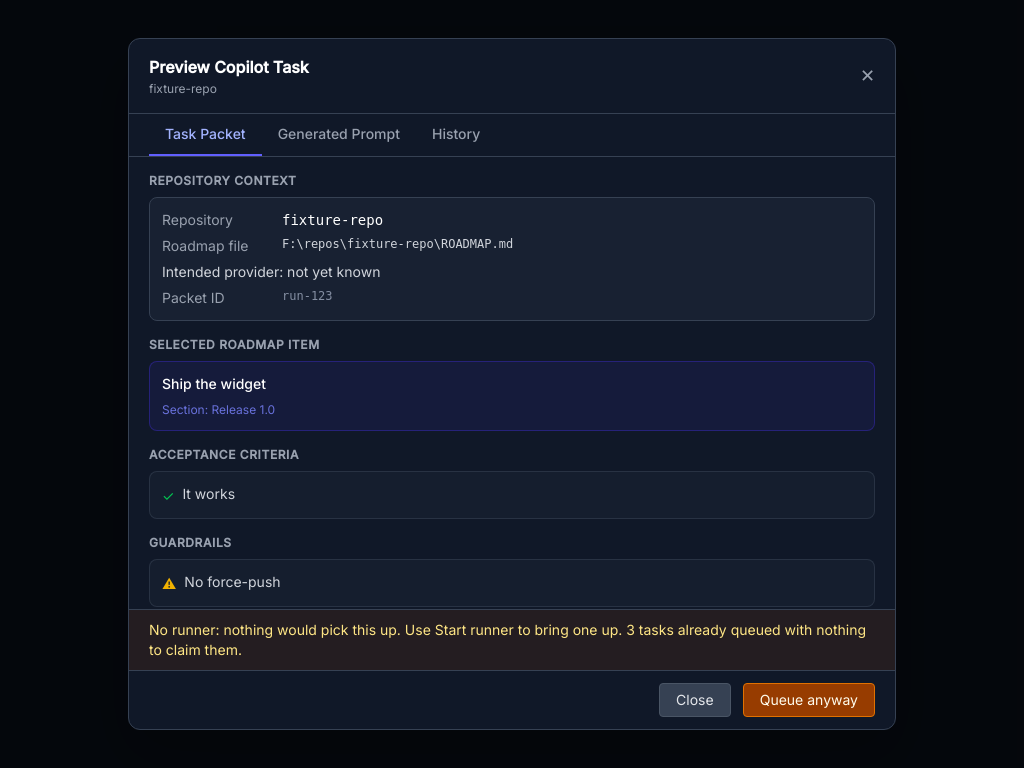
Test: CopilotTaskPreviewModal — dispatch action and honest error hints › refuses to queue into an empty room, and offers the override that names the cost
Expected: the text with test id "preview-dispatch-gate" is shown, [129,609,895,670]
Expected: the button "Dispatch" is not shown
Click the button "Queue anyway": x=809, y=700 [743,683,875,717]
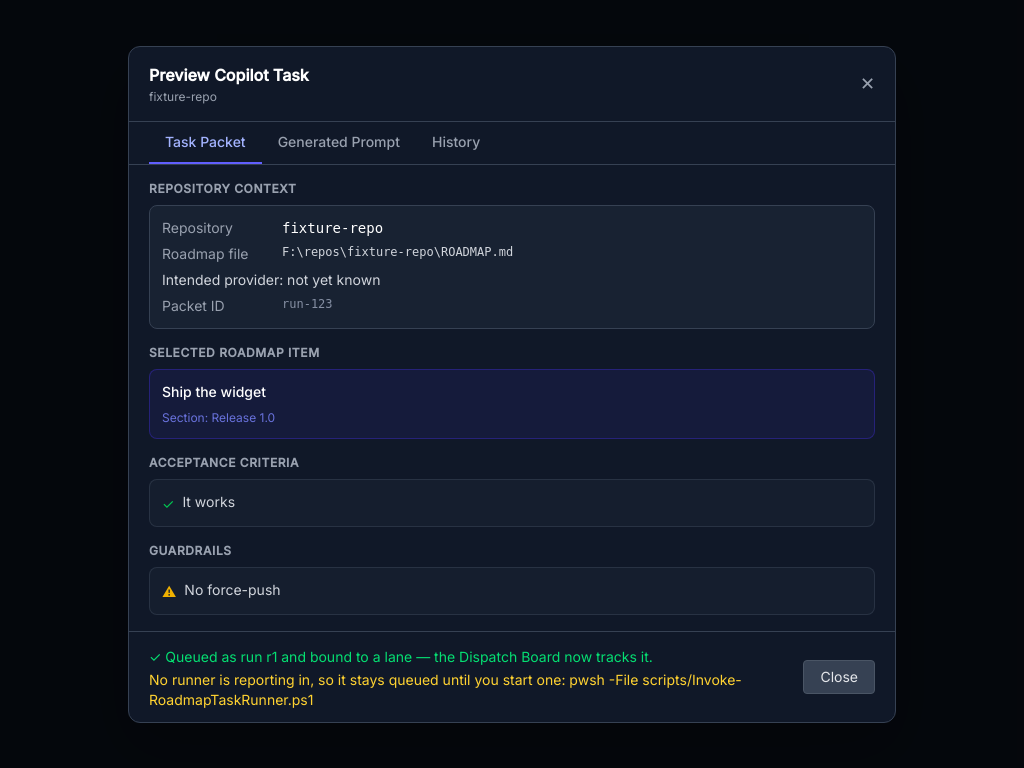
Expected: the text "stays queued until you start one" is shown, [149,670,569,688]
